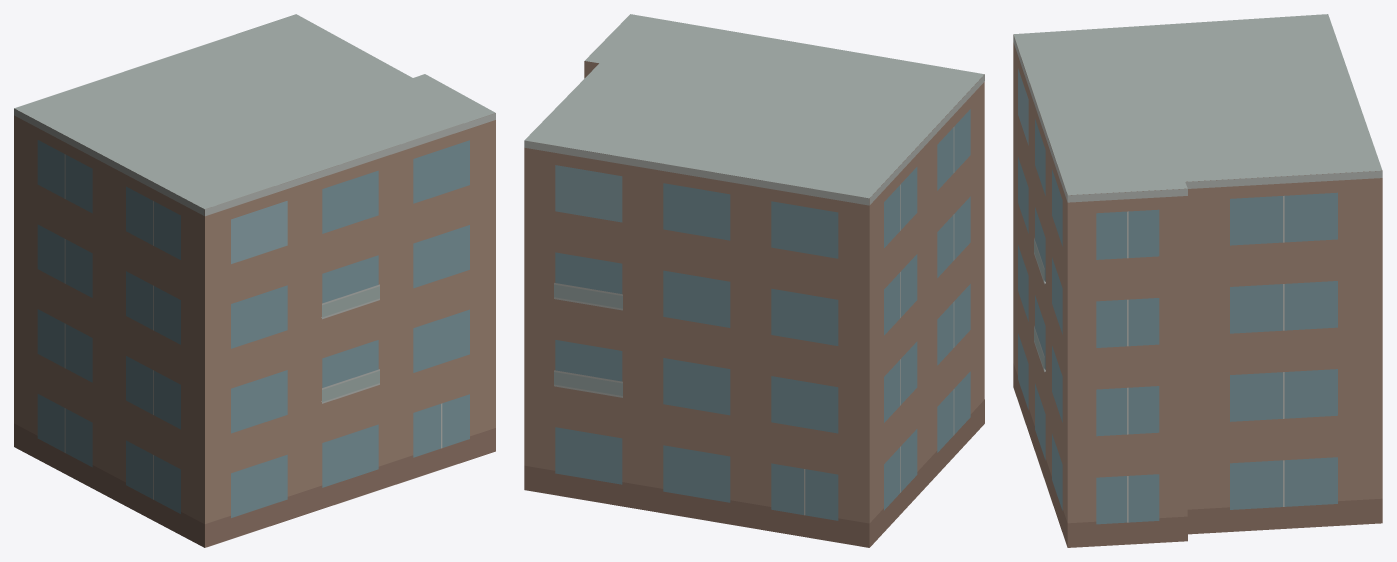
Rendered from survey-upis-32576542.glb.
3 views of the same model, side by side, from view 1: azimuth 30°, elevation 25°; view 2: azimuth 150°, elevation 25°; view 3: azimuth 270°, elevation 25° (orthographic). The views are drawn at different scales.
Parts seen in each view (by area): view 1: survey-upis-32576542.tmp; view 2: survey-upis-32576542.tmp; view 3: survey-upis-32576542.tmp.
Boxes of the visible parts, x1=… form: survey-upis-32576542.tmp: x1=14, y1=14, x2=495, y2=547; survey-upis-32576542.tmp: x1=524, y1=14, x2=984, y2=547; survey-upis-32576542.tmp: x1=1013, y1=14, x2=1382, y2=547.
Size of the model in its own units: 12.97 by 11.75 by 11.16.
